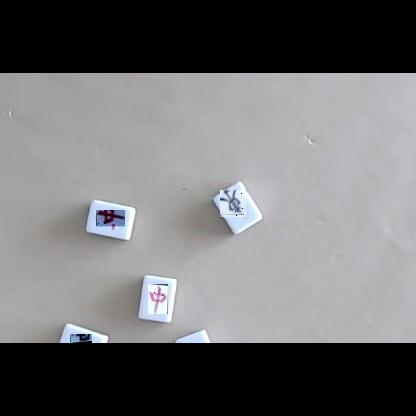1z: (221, 191, 249, 220)
3z: (70, 334, 92, 343)
7z: (148, 284, 168, 314), (96, 211, 125, 230)
